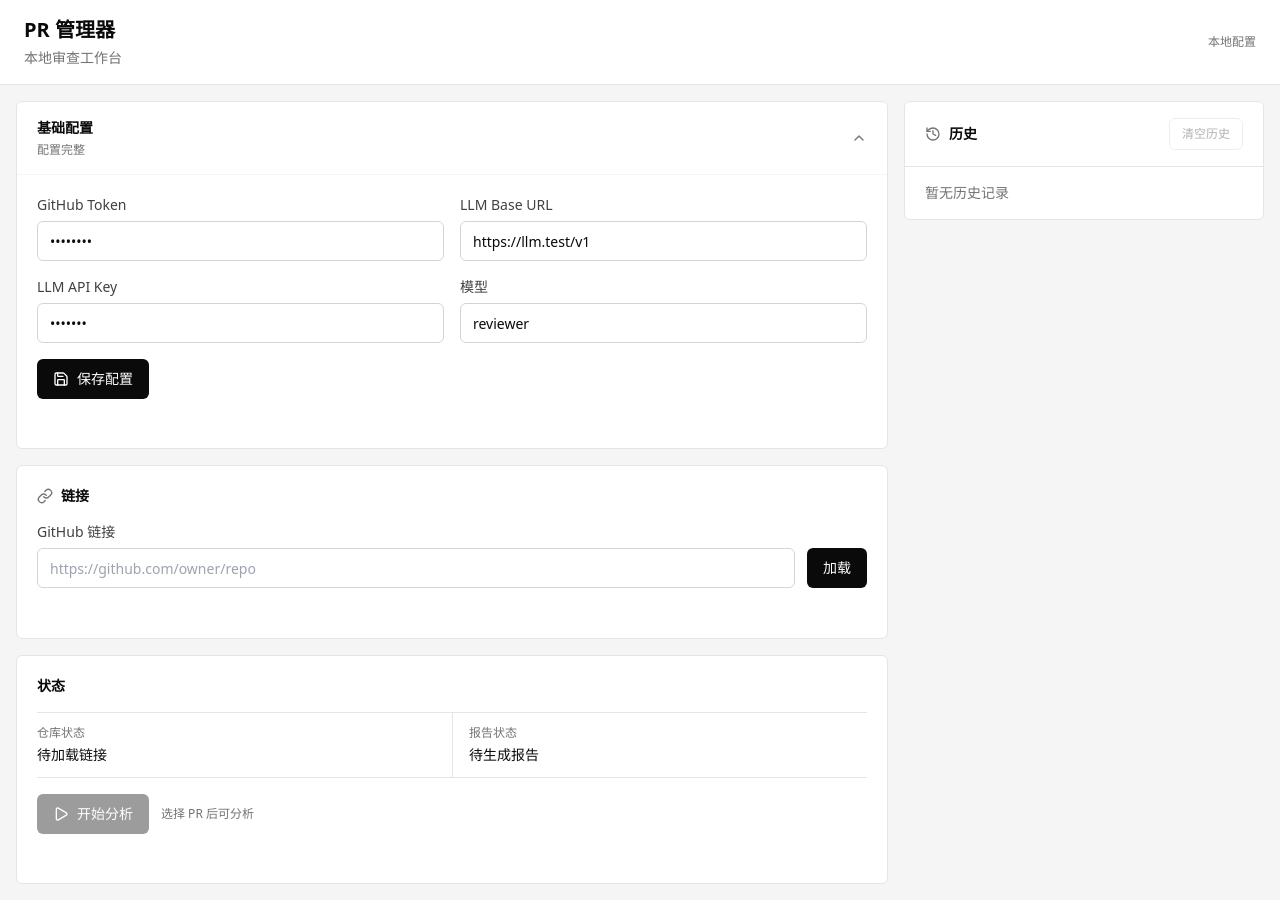
Test: PR selection and analysis flow › loads a direct PR summary from a pull request URL
Type "https://github.com/octo/repo/pull/42" into the field labelled "GitHub 链接". click: (416, 568)
box: [37,548,795,588]
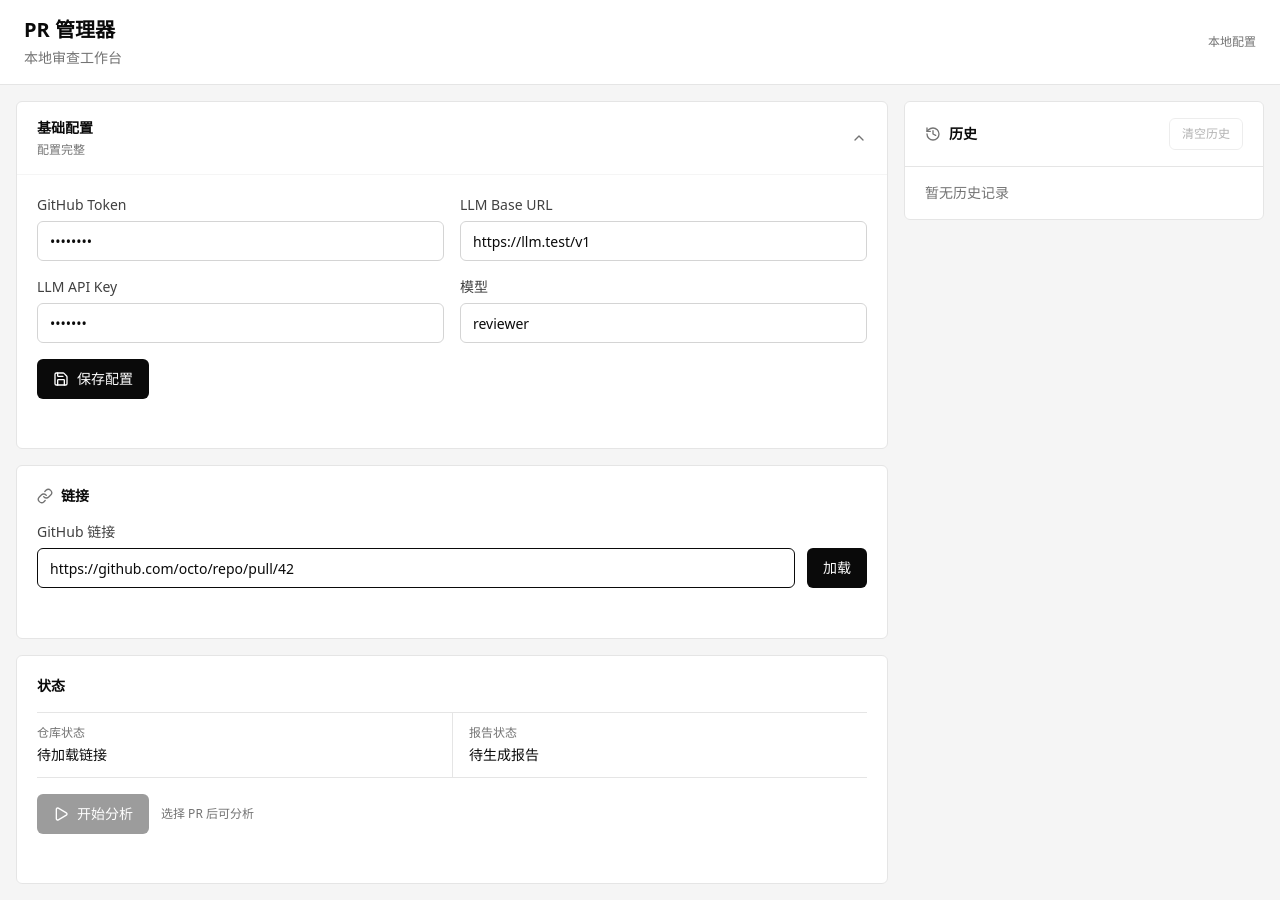
Click the button "加载". click: (837, 568)
box: [807,548,867,588]
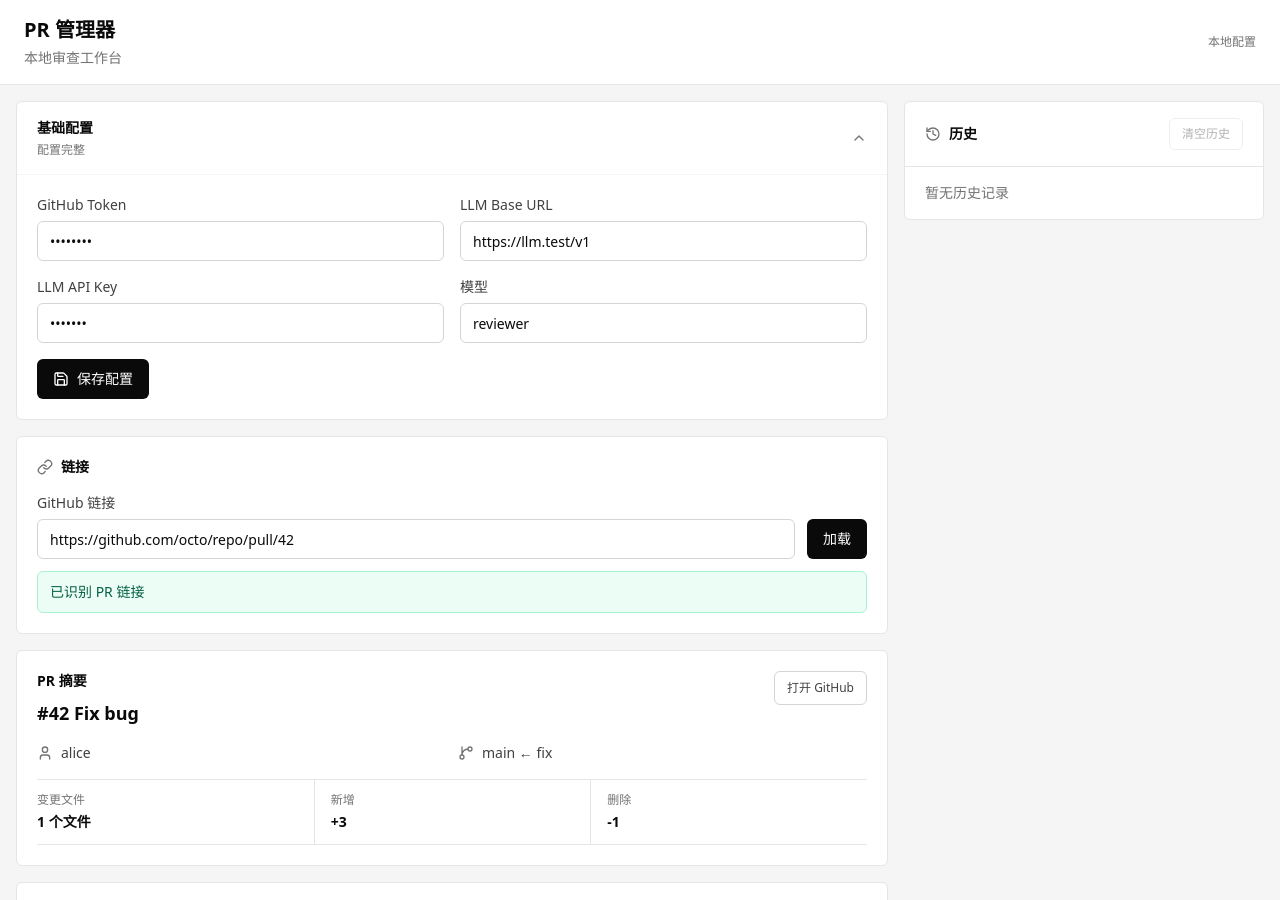
Now the heading "PR 摘要" is shown, box [37,671,87,690]
Now the text "#42 Fix bug" is shown, box [37,699,139,727]
Now the text "alice" is shown, box [61,743,91,763]
